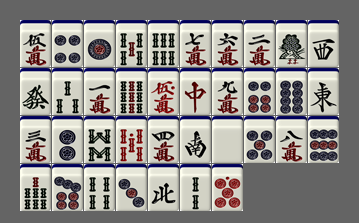0m: (148, 68, 179, 115)
0p: (212, 164, 243, 211)
0s: (116, 116, 147, 163)
1m: (84, 68, 115, 115)
1p: (84, 20, 115, 67)
1s: (276, 20, 307, 67)
1z: (308, 68, 339, 115)
2m: (244, 20, 275, 67)
2p: (52, 116, 83, 163)
2s: (180, 164, 211, 211)
2z: (180, 116, 211, 163)
3m: (20, 116, 51, 163)
3p: (116, 164, 147, 211)
3s: (52, 68, 83, 115)
3z: (308, 20, 339, 67)
4m: (148, 116, 179, 163)
4p: (52, 20, 83, 67)
4s: (84, 164, 115, 211)
4z: (148, 164, 179, 211)
5m: (20, 20, 51, 67)
5p: (244, 116, 275, 163)
5s: (116, 20, 147, 67)
5z: (212, 116, 243, 163)
6m: (212, 20, 243, 67)
6p: (244, 68, 275, 115)
6s: (148, 20, 179, 67)
6z: (20, 68, 51, 115)
7m: (180, 20, 211, 67)
7p: (52, 164, 83, 211)
7s: (20, 164, 51, 211)
7z: (180, 68, 211, 115)
8m: (276, 116, 307, 163)
8p: (276, 68, 307, 115)
8s: (84, 116, 115, 163)
9m: (212, 68, 243, 115)
9p: (308, 116, 339, 163)
9s: (116, 68, 147, 115)
